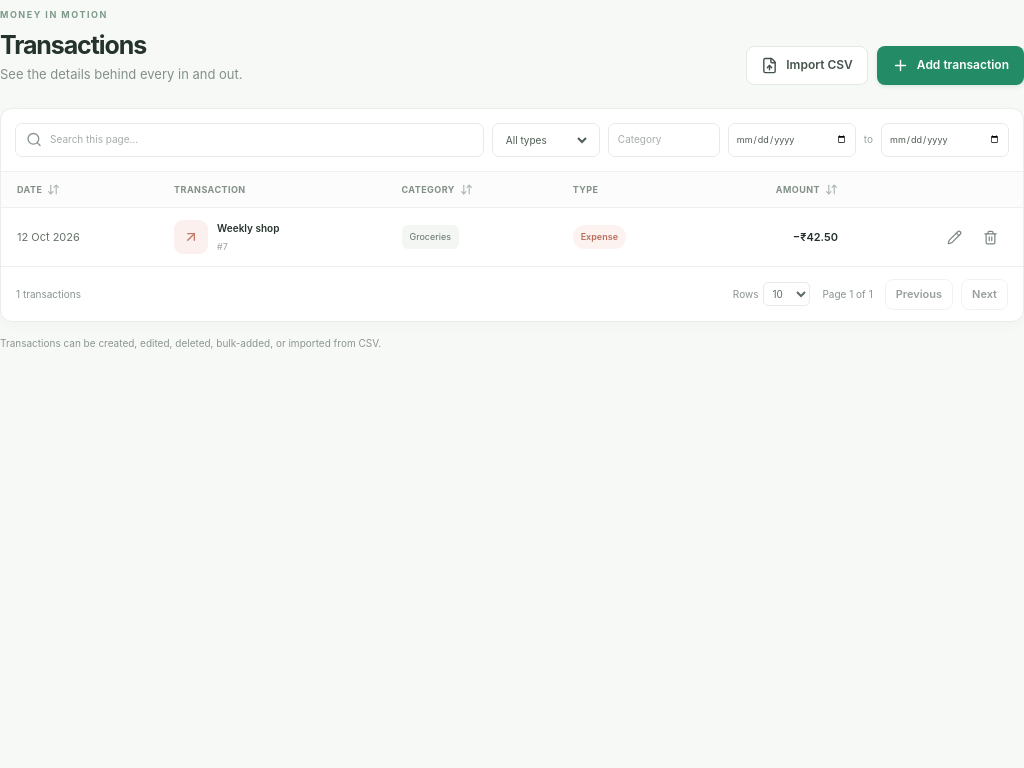
TransactionsPage actions › deletes only after confirmation and refreshes transaction data
This screenshot has width=1024, height=768.
Click the button named "Delete Groceries transaction": x=990, y=237 [973, 220, 1007, 254]
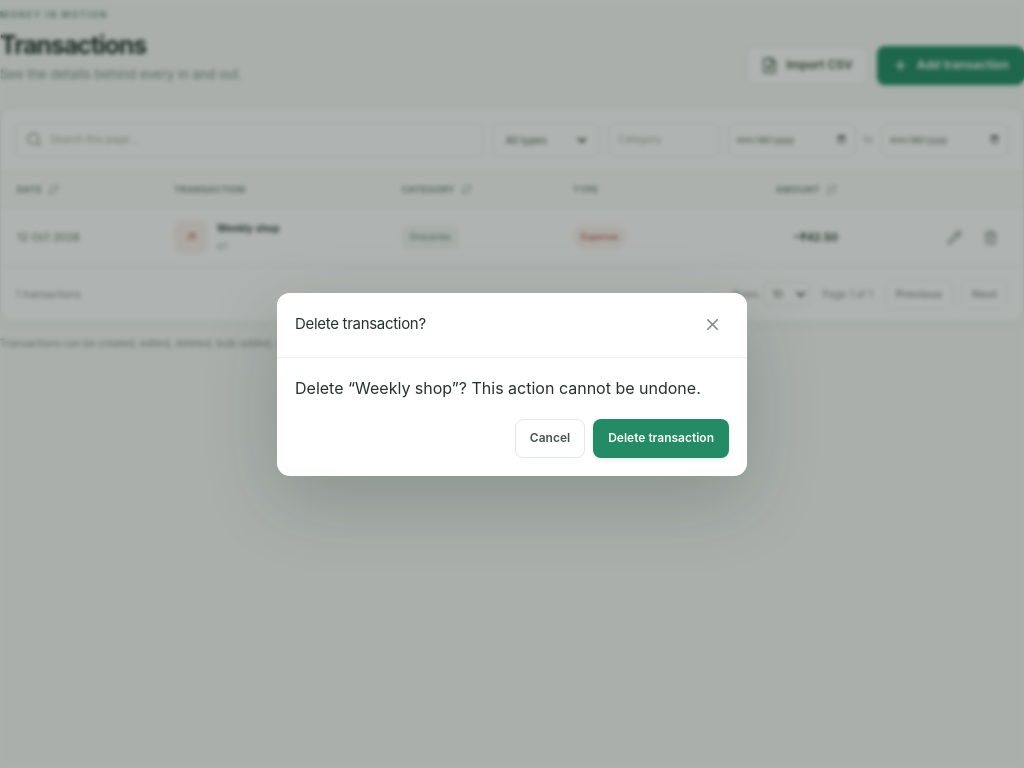
Click the button "Delete transaction": x=661, y=438 [593, 418, 729, 458]
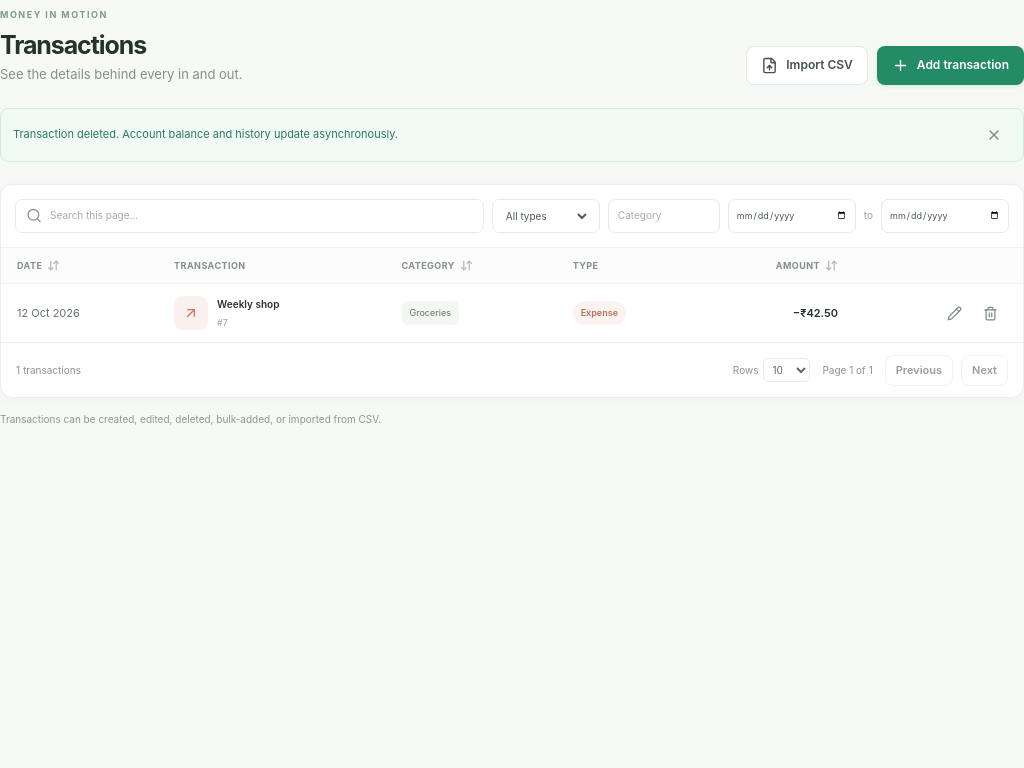
Expected: the text "Transaction deleted. Account balance and history update asynchronously." is shown, [0, 108, 1023, 162]
